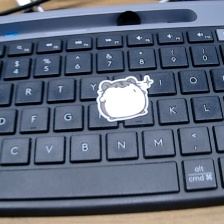mouse: (98, 74, 159, 122)
